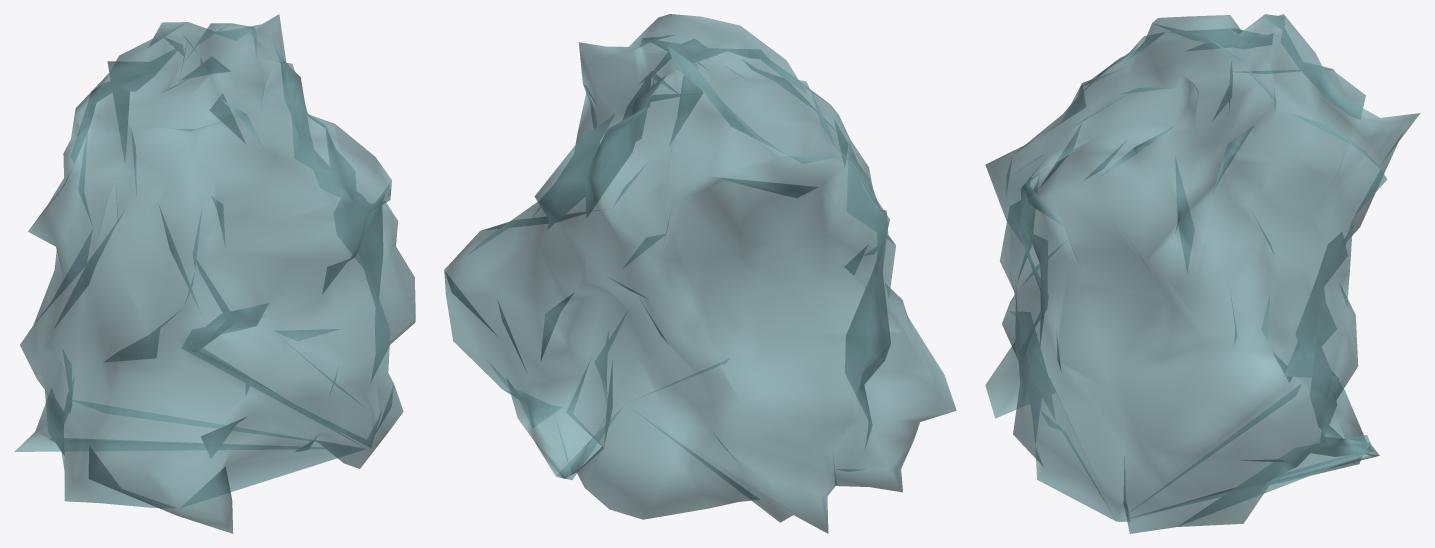
The model's file is ice.obj.
The picture shows the model from 3 angles, left to right: view 1: azimuth 30°, elevation 25°; view 2: azimuth 150°, elevation 25°; view 3: azimuth 270°, elevation 25°; orthographic projection. The views are drawn at different scales.
Parts seen in each view (by area): view 1: Cylinder; view 2: Cylinder; view 3: Cylinder.
Part boxes in pixels (<box>): Cylinder: <box>14,14,415,533</box>; Cylinder: <box>444,14,956,533</box>; Cylinder: <box>985,14,1420,533</box>.
Bounding box in the file's own units: 2.55 × 2.62 × 2.24.
